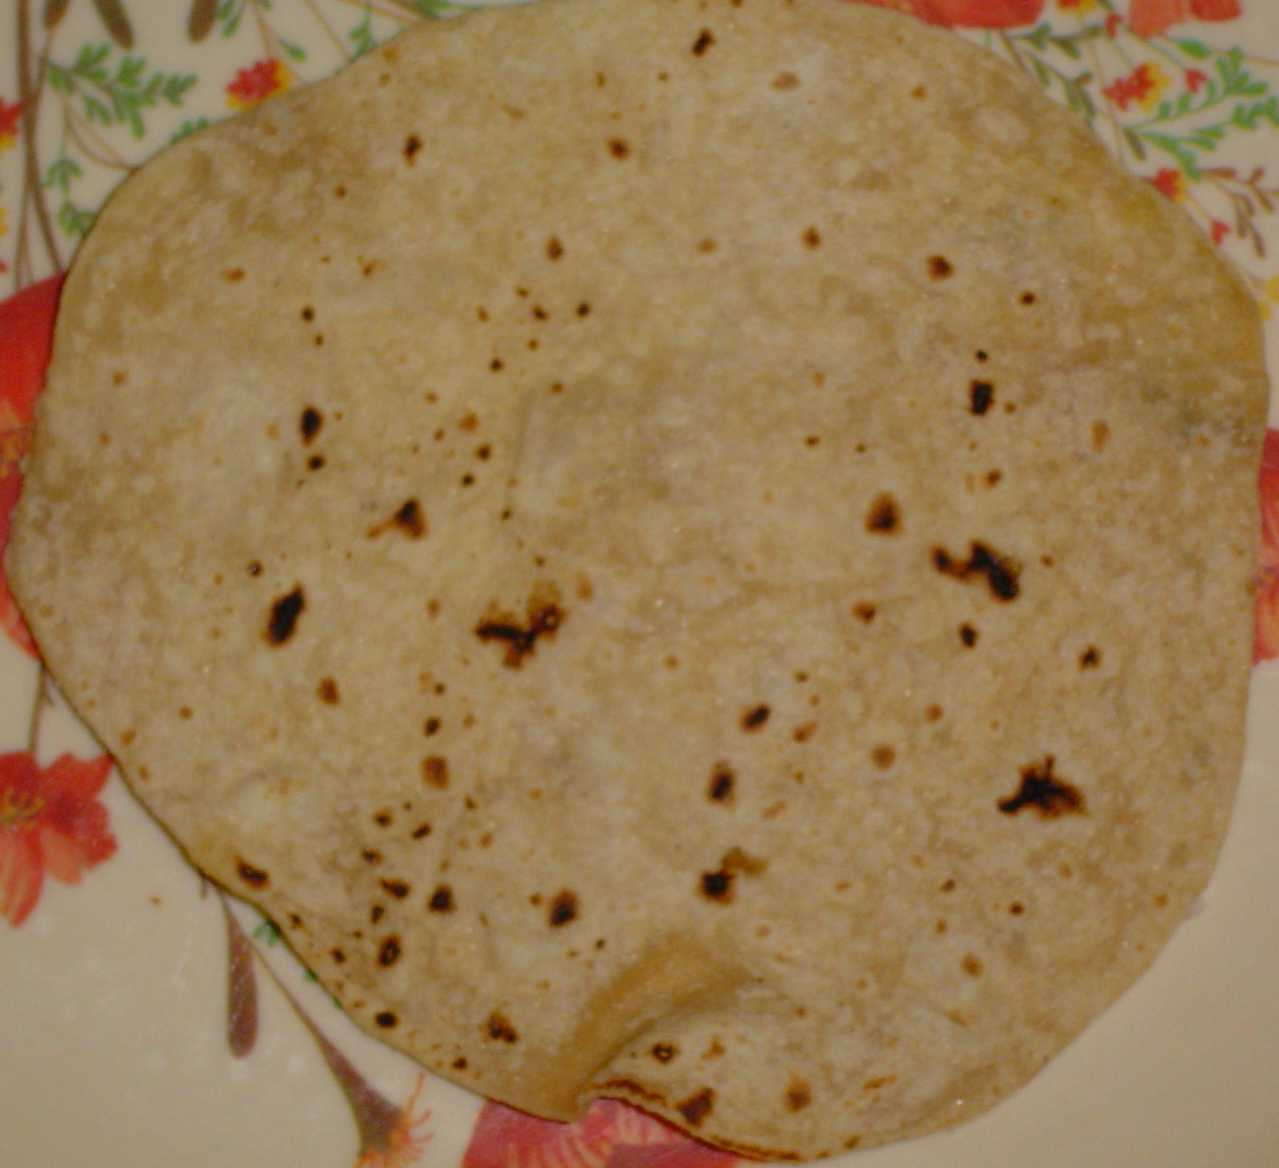roti: (140, 75, 1208, 1024)
